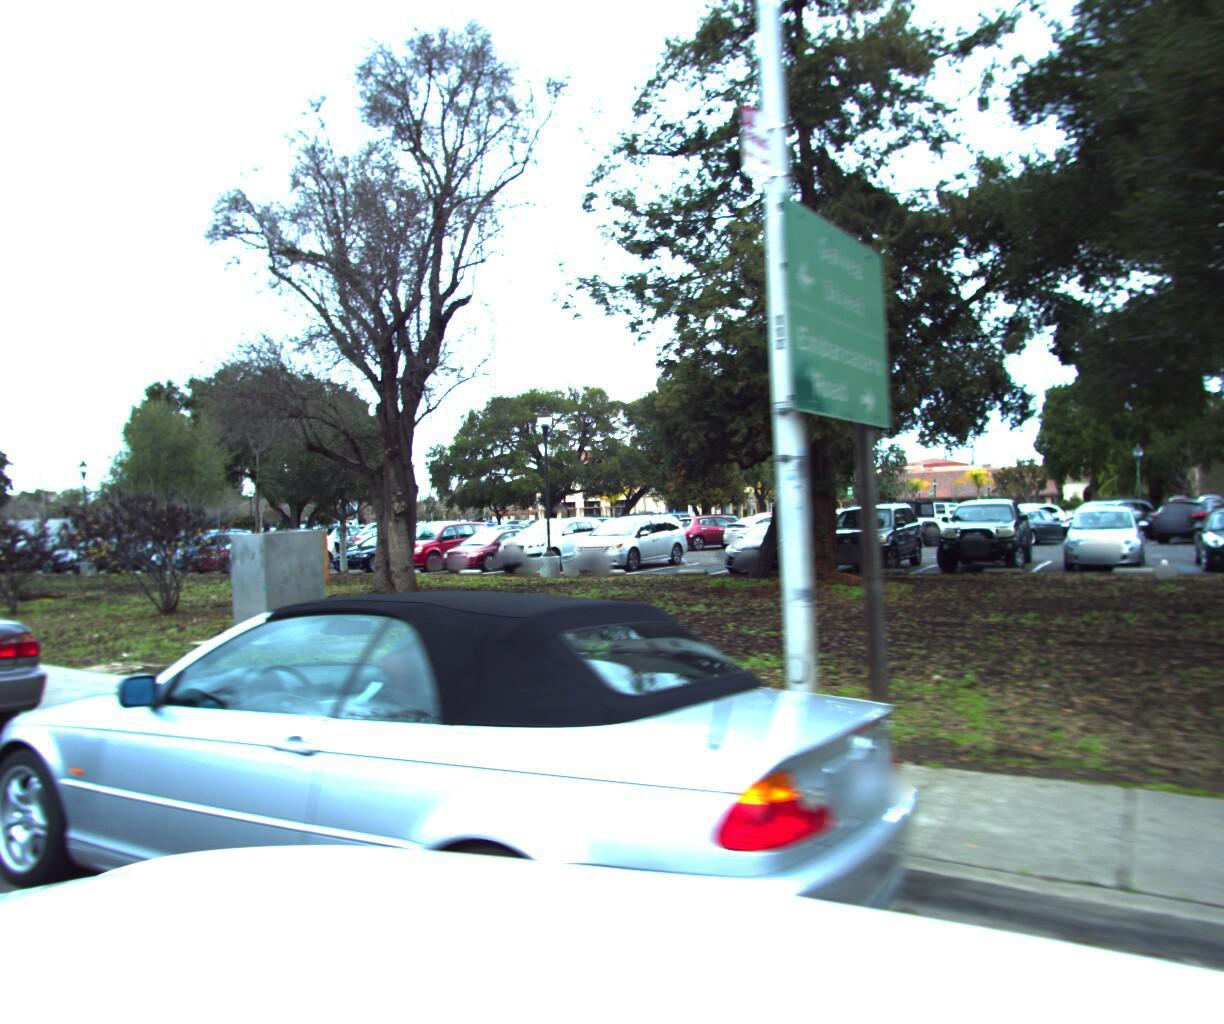car: (0, 553, 934, 1024), (0, 542, 75, 824)
